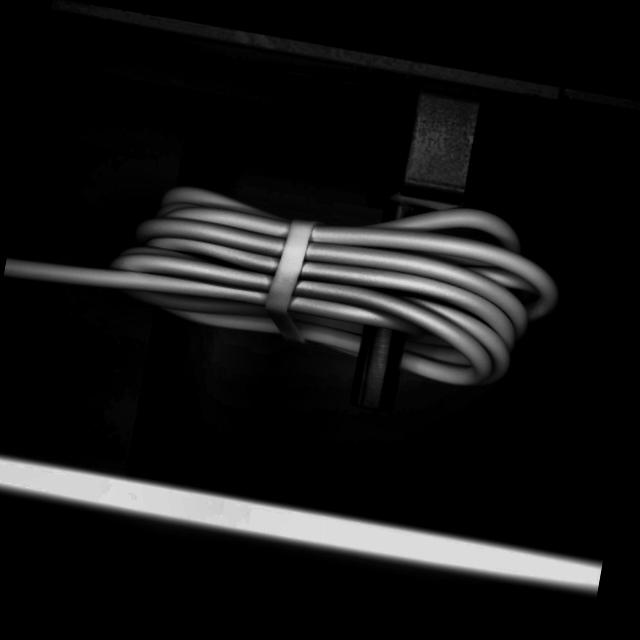Cable: (0, 126, 575, 405)
